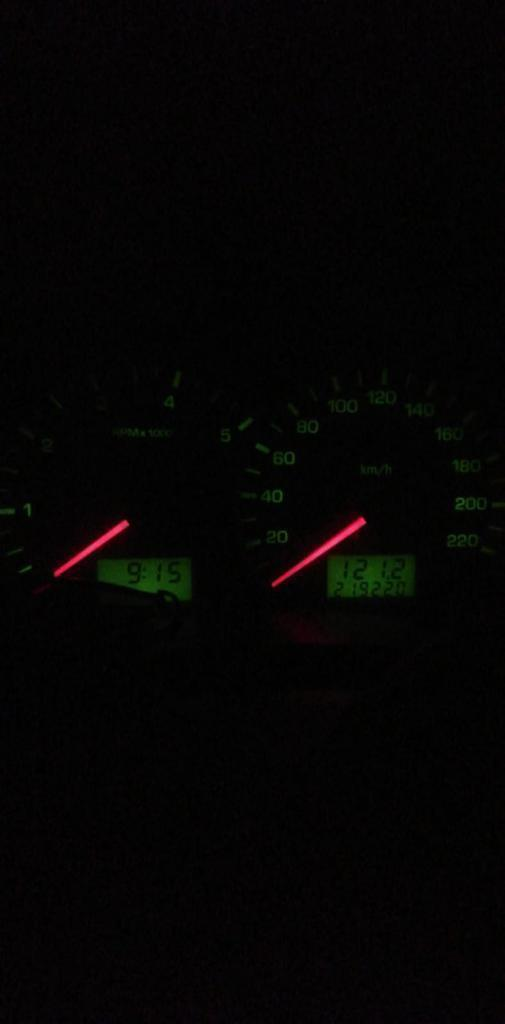,: (385, 574, 389, 579)
0: (395, 581, 406, 596)
1: (342, 558, 349, 578), (380, 558, 387, 577), (350, 582, 357, 596)
2: (390, 557, 406, 579), (352, 557, 367, 579), (369, 580, 381, 597), (332, 581, 344, 597), (382, 580, 393, 596)
9: (358, 580, 368, 596)
odometer: (321, 551, 419, 601)
